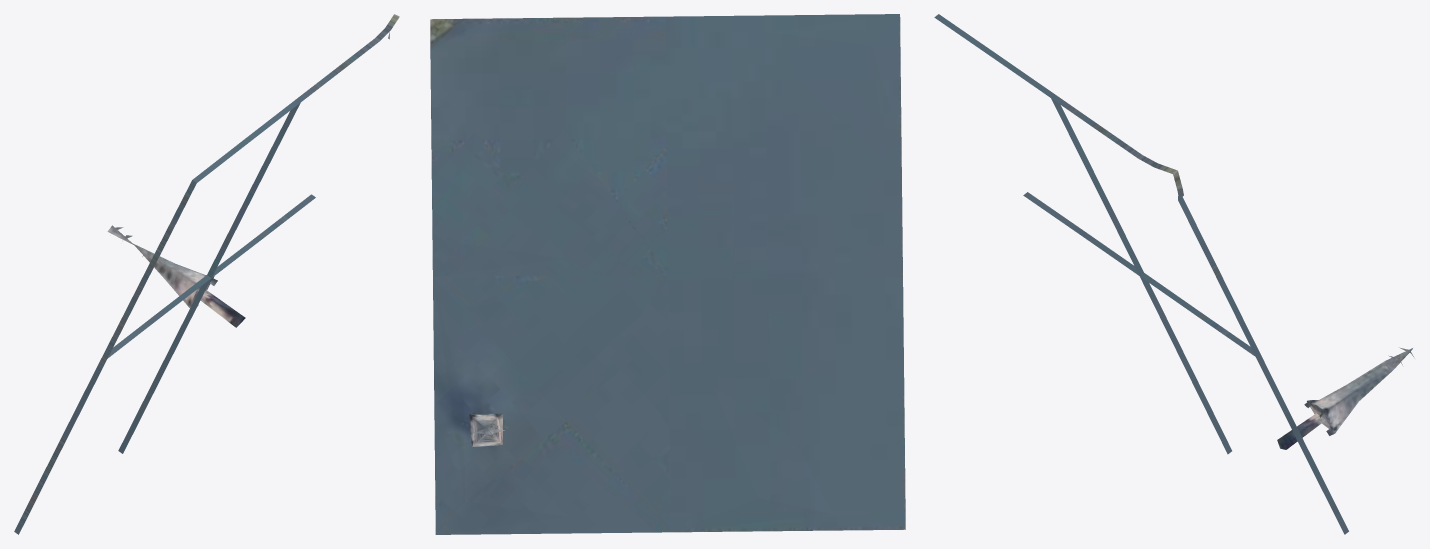
3 renders of one model, left to right at view 1: azimuth 30°, elevation 25°; view 2: azimuth 150°, elevation 25°; view 3: azimuth 270°, elevation 25°, orthographic. The views are drawn at different scales.
Size of the model in its own units: 152 by 140 by 150.
1 material, 1 textured.
